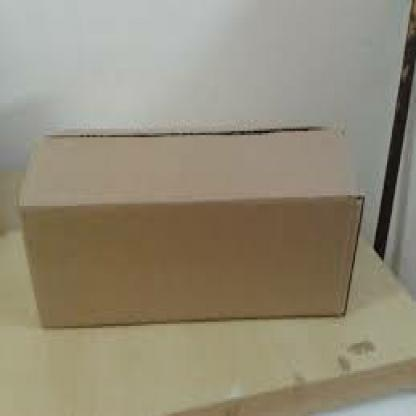package: (18, 122, 368, 326)
